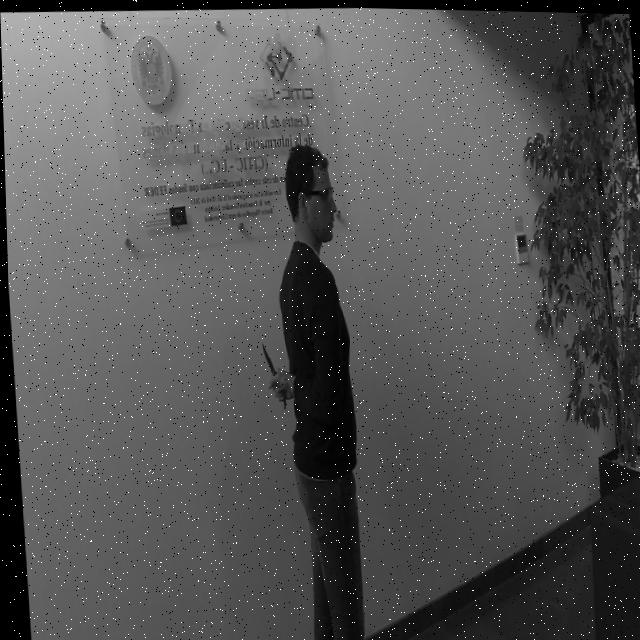knife: (254, 337, 272, 375)
